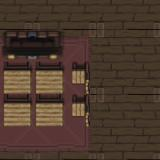Hide: (0, 28, 65, 61)
Obstacle: (0, 60, 34, 96), (33, 60, 67, 96), (0, 95, 34, 128), (34, 95, 68, 128), (67, 60, 96, 96), (66, 95, 95, 129)
